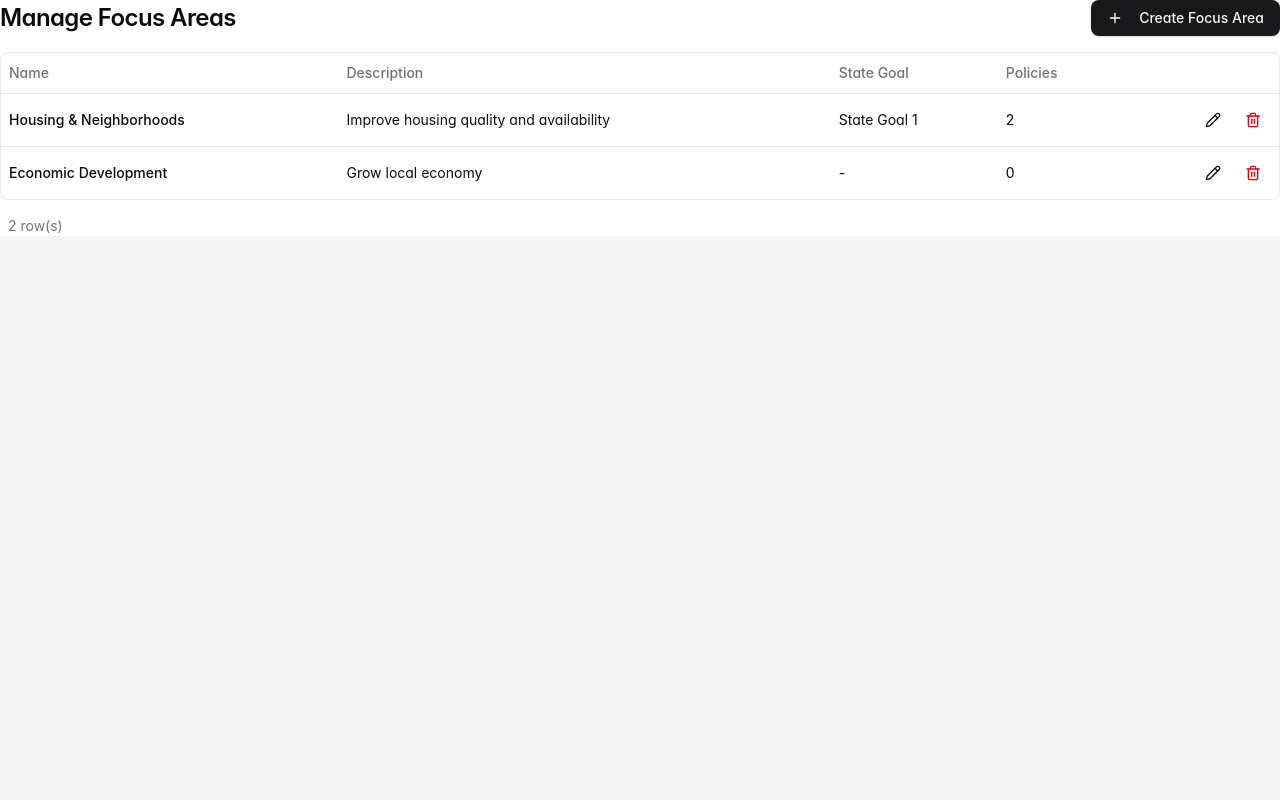
Test: ManageFocusAreas › as Admin › opens create form when Create button is clicked
Click the button "Create Focus Area" at [1186, 18], box [1091,0,1279,36]
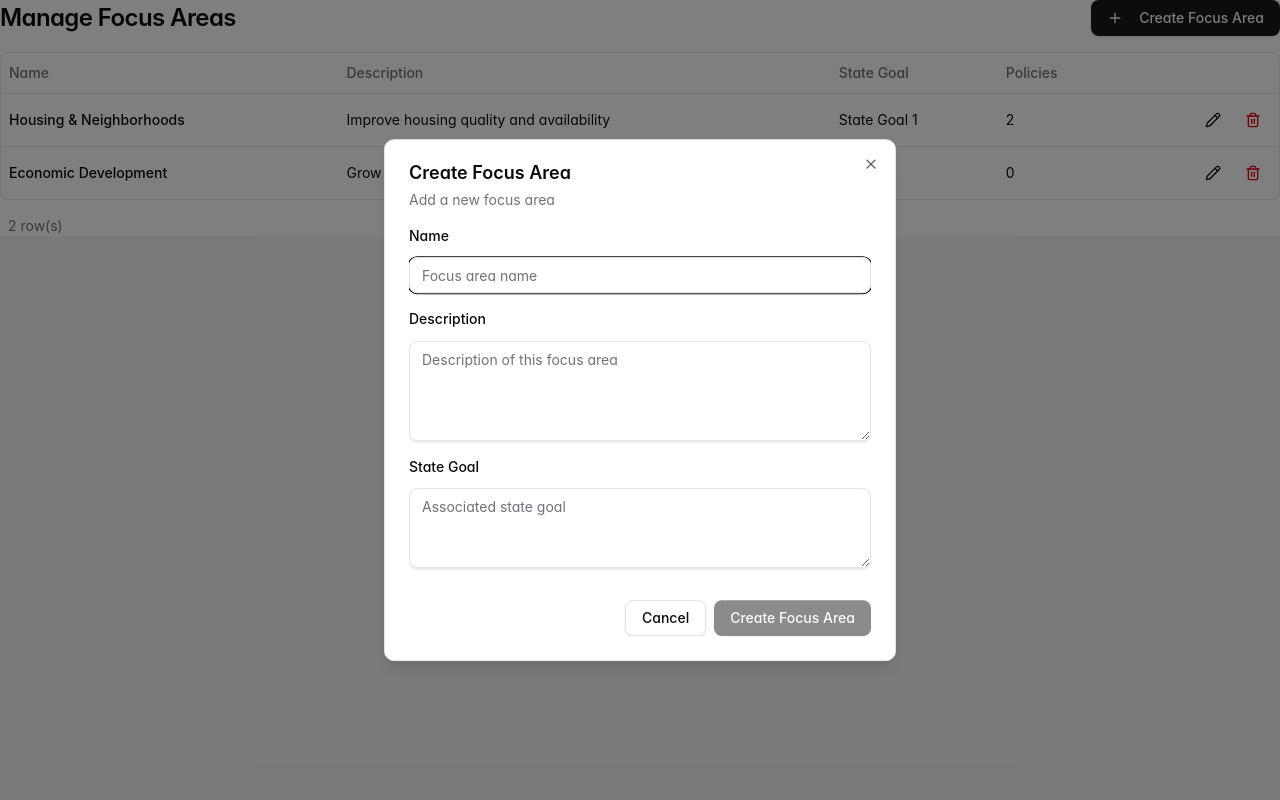
Expected: the text "Add a new focus area" is shown, [409,191,555,208]
